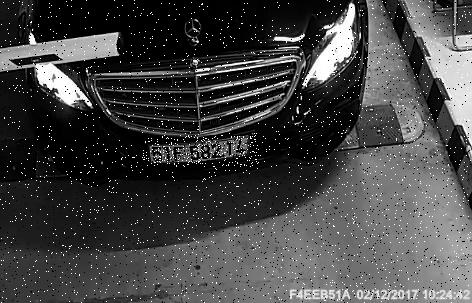License-plate: (145, 136, 261, 168)
